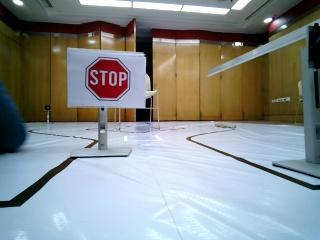stop: (79, 54, 139, 102)
